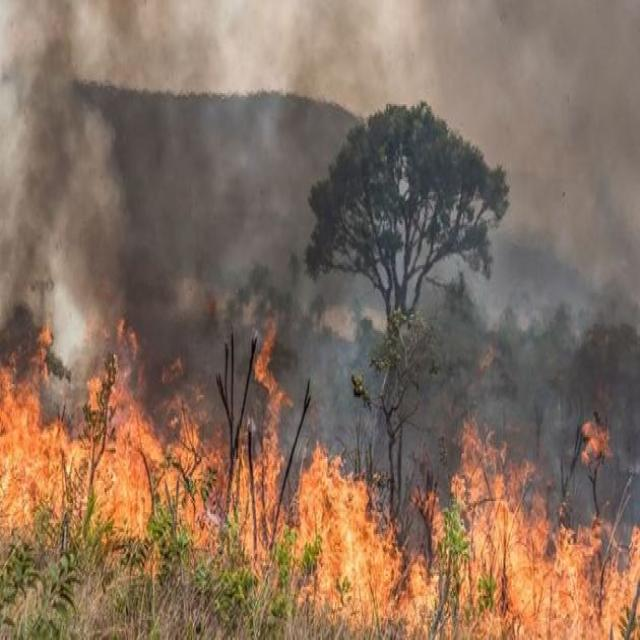fire: (448, 474, 640, 635), (3, 428, 148, 530), (301, 468, 387, 610)
